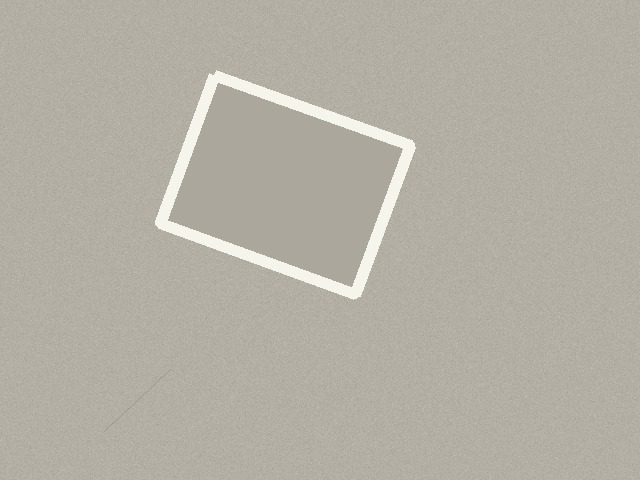parking_area: (160, 75, 410, 294)
